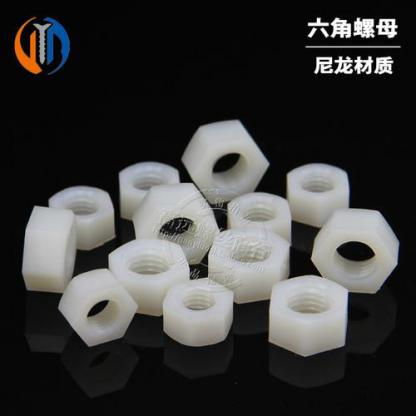FOD: (311, 204, 402, 296), (183, 117, 271, 207), (53, 266, 138, 352), (264, 275, 352, 358), (128, 184, 215, 267), (108, 238, 191, 317), (207, 228, 290, 307), (160, 274, 235, 352), (20, 198, 80, 295), (44, 180, 117, 253), (114, 159, 186, 222), (288, 159, 352, 226), (221, 190, 292, 233)
